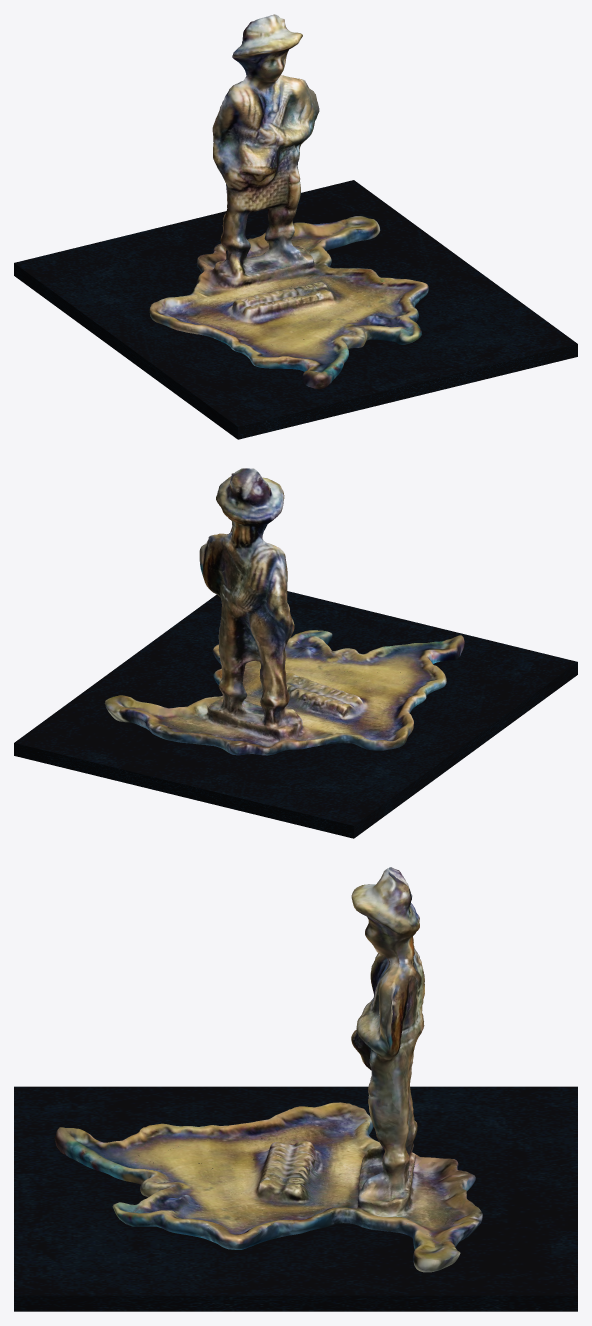
File: Figura_doradab.glb
The picture shows the model from 3 angles, top to bottom: view 1: azimuth 30°, elevation 25°; view 2: azimuth 150°, elevation 25°; view 3: azimuth 270°, elevation 25°; orthographic projection. The views are drawn at different scales.
Parts seen in each view (by area): view 1: Cube, Mesh_0.005; view 2: Cube, Mesh_0.005; view 3: Cube, Mesh_0.005.
Boxes of the visible parts, x1=… form: Cube: x1=14, y1=180, x2=577, y2=439; Mesh_0.005: x1=149, y1=14, x2=428, y2=389; Cube: x1=14, y1=591, x2=577, y2=838; Mesh_0.005: x1=105, y1=468, x2=464, y2=755; Cube: x1=14, y1=1086, x2=577, y2=1311; Mesh_0.005: x1=54, y1=867, x2=482, y2=1272.
Bounding box in the file's own units: 0.8533 × 0.6506 × 0.9741.
2 materials, 2 textured.
